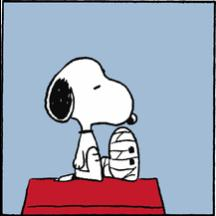snoopy: (40, 56, 140, 185)
